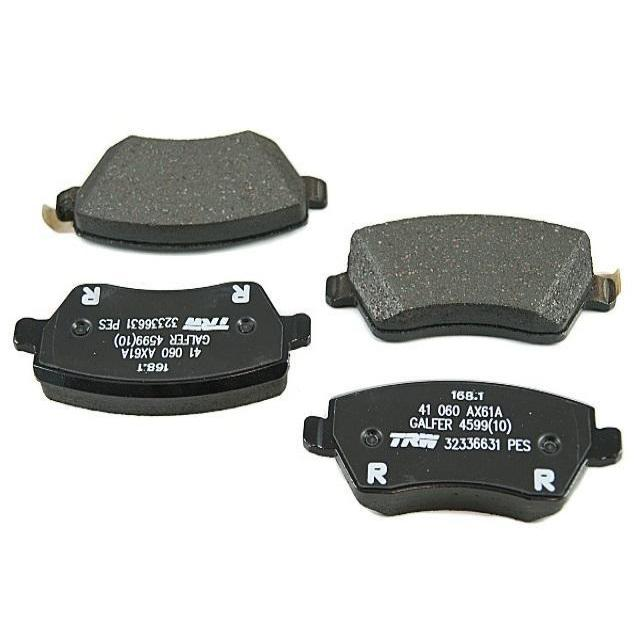brake_pad: (299, 376, 628, 524), (8, 272, 310, 422), (30, 111, 332, 249), (338, 209, 626, 345)
